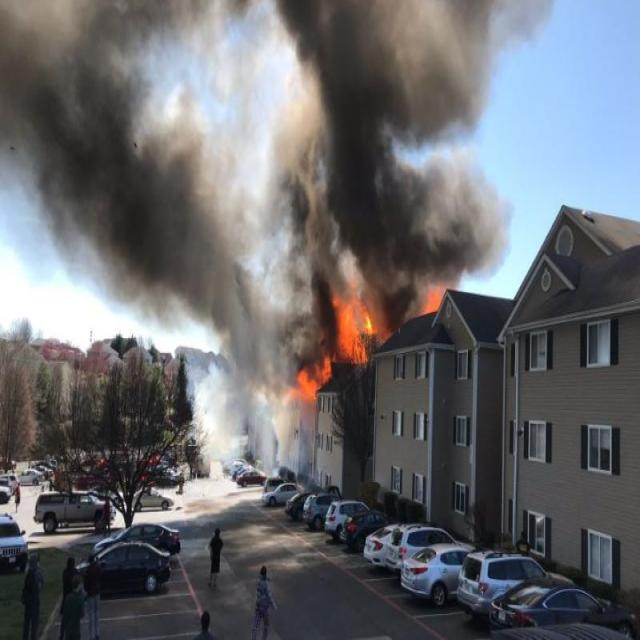Fire: (286, 235, 457, 407)
